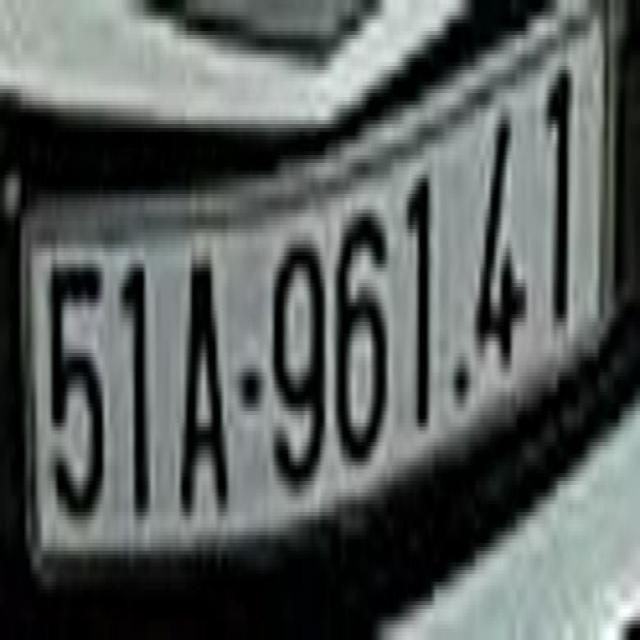1: (542, 55, 572, 338), (119, 236, 147, 504), (406, 159, 433, 415)
4: (479, 101, 521, 384)
5: (48, 256, 106, 532)
6: (336, 202, 389, 458)
9: (275, 228, 325, 496)
A: (178, 252, 228, 512)
